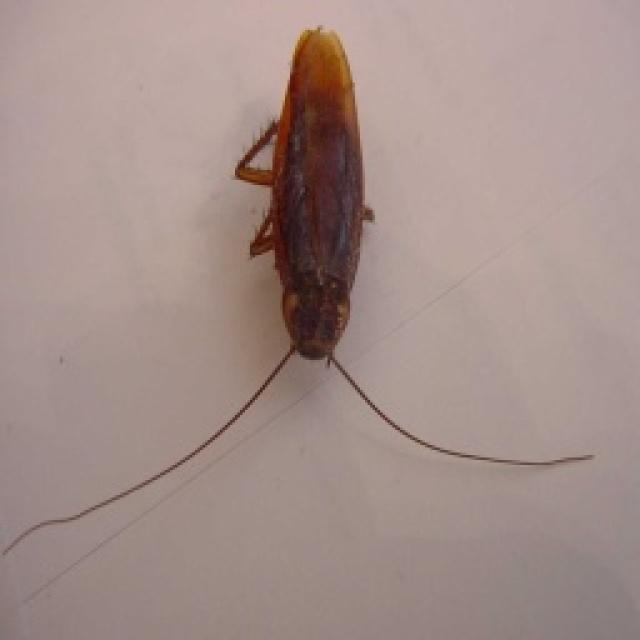cockroach: (230, 16, 409, 425)
